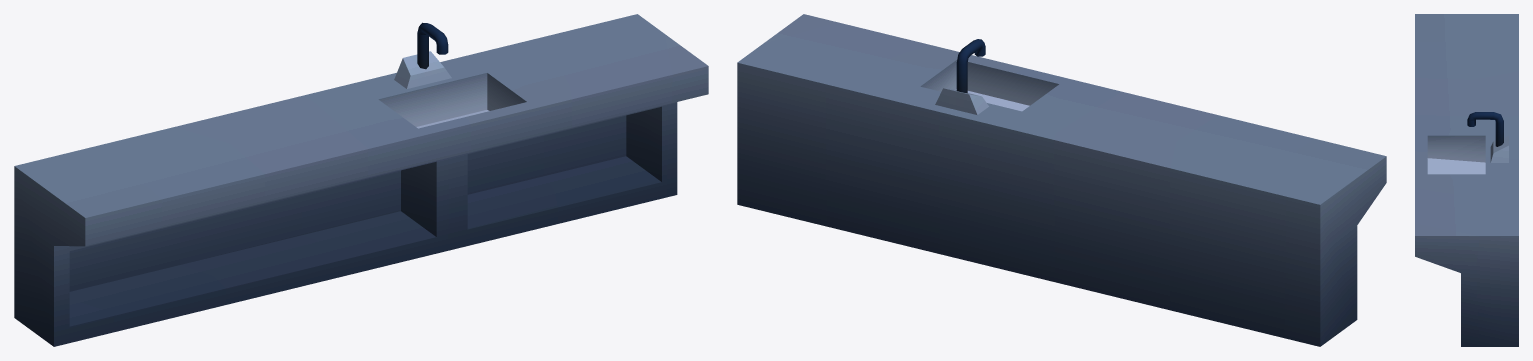
File: Pub - barBack.fbx
The picture shows the model from 3 angles, left to right: view 1: azimuth 30°, elevation 25°; view 2: azimuth 150°, elevation 25°; view 3: azimuth 270°, elevation 25°; orthographic projection. The views are drawn at different scales.
Parts seen in each view (by area): view 1: Bar back; view 2: Bar back; view 3: Bar back.
Boxes of the visible parts, x1,y1,x2,y2 form: Bar back: (14, 14, 708, 346); Bar back: (737, 14, 1386, 346); Bar back: (1415, 14, 1518, 346).
Size of the model in its own units: 494 by 160 by 97.51.
